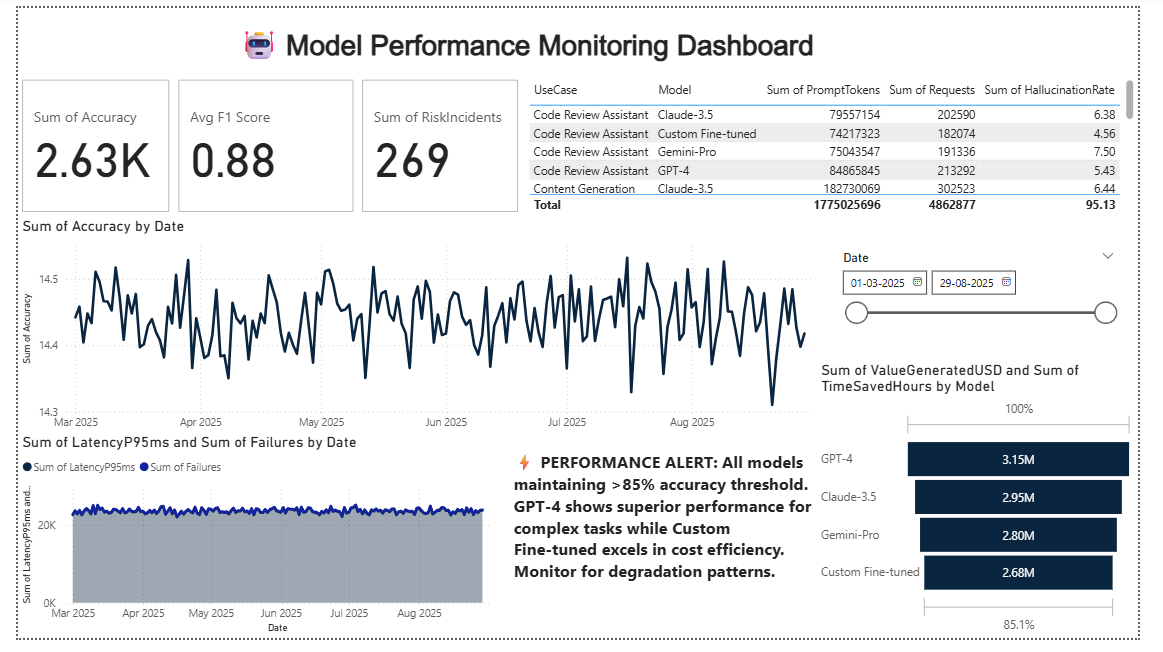

This screenshot's page, from the dashboard's own definition file:
{"tool":"powerbi","page":{"name":"Page 2","canvas":[1280,720],"ordinal":1},"visuals":[{"type":"textbox","box":[248.6,14.3,694.3,62.9],"z":0},{"type":"cardVisual","fields":{"Data":["Sum(ModelPerformance.Accuracy)"]},"box":[0,77.1,178.6,161.4],"z":1000},{"type":"cardVisual","fields":{"Data":["Sum(BusinessImpact.RiskIncidents)"]},"box":[388.6,77.1,188.6,161.4],"z":2000},{"type":"cardVisual","fields":{"Data":["Measures .Avg F1 Score"]},"box":[178.6,77.1,210,161.4],"z":3000},{"type":"tableEx","fields":{"Values":["ModelPerformance.UseCase","ModelPerformance.Model","Sum(ModelPerformance.PromptTokens)","Sum(ModelPerformance.Requests)","Sum(ModelPerformance.HallucinationRate)"]},"box":[578.6,77.1,701.4,161.4],"z":4000},{"type":"lineChart","fields":{"Y":["Sum(ModelPerformance.Accuracy)"],"Category":["ModelPerformance.Date"]},"box":[0,238.6,930,262.9],"z":5000},{"type":"slicer","fields":{"Values":["ModelPerformance.Date"]},"box":[930,271.4,334.3,150],"z":6000},{"type":"stackedAreaChart","fields":{"Category":["ModelPerformance.Date"],"Y":["Sum(ModelPerformance.LatencyP95ms)","Sum(ModelPerformance.Failures)"]},"box":[0,486,562,234],"z":7000},{"type":"funnel","fields":{"Category":["BusinessImpact.Model"],"Y":["Sum(BusinessImpact.ValueGeneratedUSD)"]},"box":[912.9,402.9,367.1,317.1],"z":8000},{"type":"textbox","box":[562,502,351,218],"z":8001}]}

Visuals, with their boxes in screenshot pixels (x1, y1, x2, y2), scaled from the page's 1280x720 canvas onto the 1163x652 screenshot:
textbox: <box>226,13,857,70</box>
cardVisual - Sum(ModelPerformance.Accuracy): <box>0,70,162,216</box>
cardVisual - Sum(BusinessImpact.RiskIncidents): <box>353,70,524,216</box>
cardVisual - Measures .Avg F1 Score: <box>162,70,353,216</box>
tableEx - ModelPerformance.UseCase x ModelPerformance.Model: <box>526,70,1162,216</box>
lineChart - Sum(ModelPerformance.Accuracy) x ModelPerformance.Date: <box>0,216,845,454</box>
slicer - ModelPerformance.Date: <box>845,246,1149,382</box>
stackedAreaChart - ModelPerformance.Date x Sum(ModelPerformance.LatencyP95ms): <box>0,440,511,651</box>
funnel - BusinessImpact.Model x Sum(BusinessImpact.ValueGeneratedUSD): <box>829,365,1162,651</box>
textbox: <box>511,455,830,651</box>
